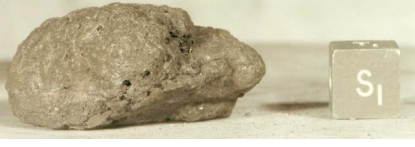Basalt: (3, 2, 269, 127)
